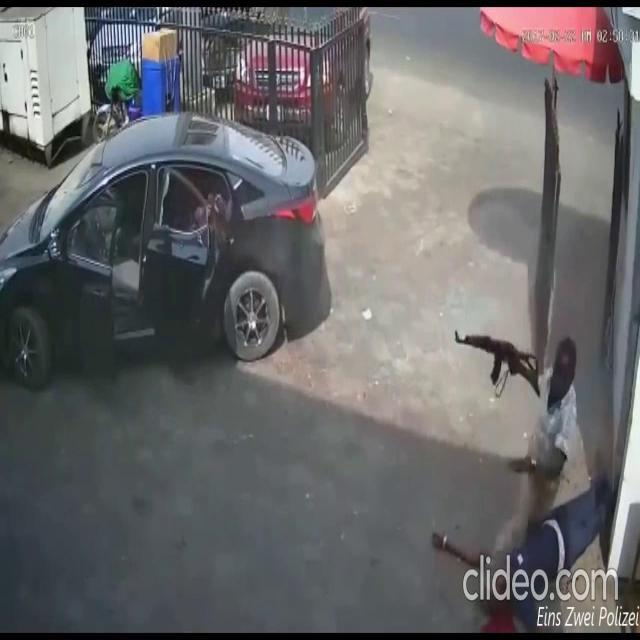pistol: (452, 326, 540, 398), (202, 197, 235, 247)
